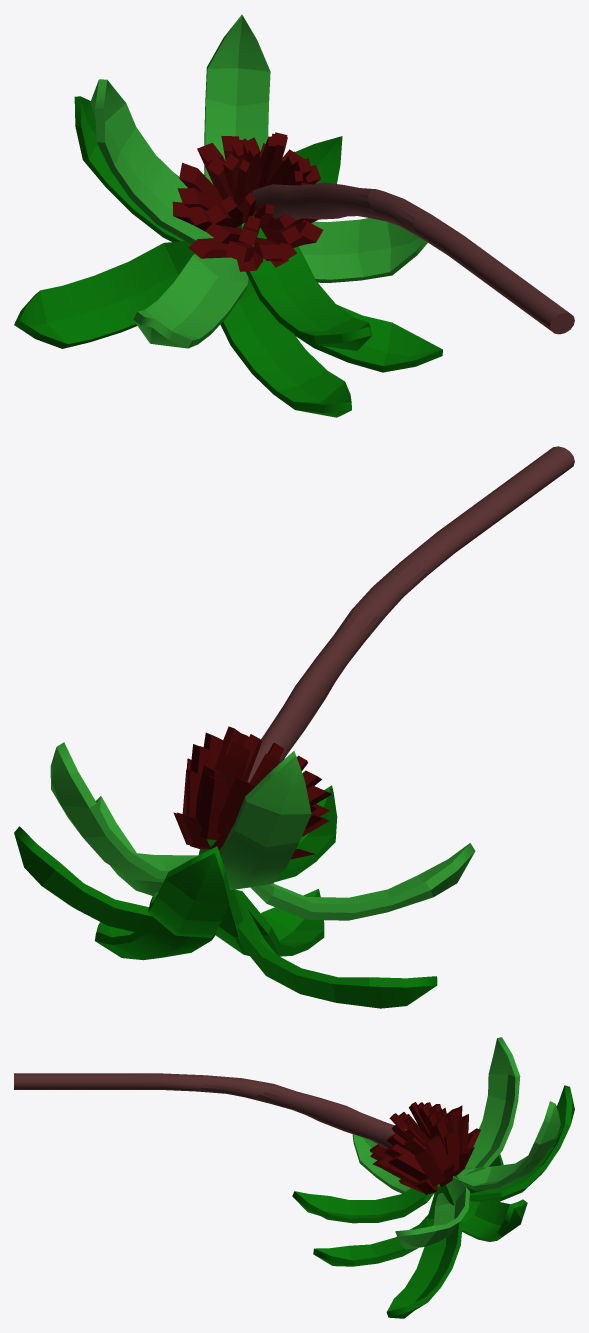
The model's file is Plant_Palm_Tree.fbx.
3 views of the same model, one above another, from view 1: azimuth 30°, elevation 25°; view 2: azimuth 150°, elevation 25°; view 3: azimuth 270°, elevation 25° (orthographic). The views are drawn at different scales.
Visible parts, largest first — view 1: Palm_Tree_Trunk5; view 2: Palm_Tree_Trunk5; view 3: Palm_Tree_Trunk5.
Boxes of the visible parts, x1,y1,x2,y2 form: Palm_Tree_Trunk5: (14, 14, 574, 417); Palm_Tree_Trunk5: (14, 446, 574, 1008); Palm_Tree_Trunk5: (14, 1037, 574, 1318).
Bounding box in the file's own units: 166 × 125 × 317.
